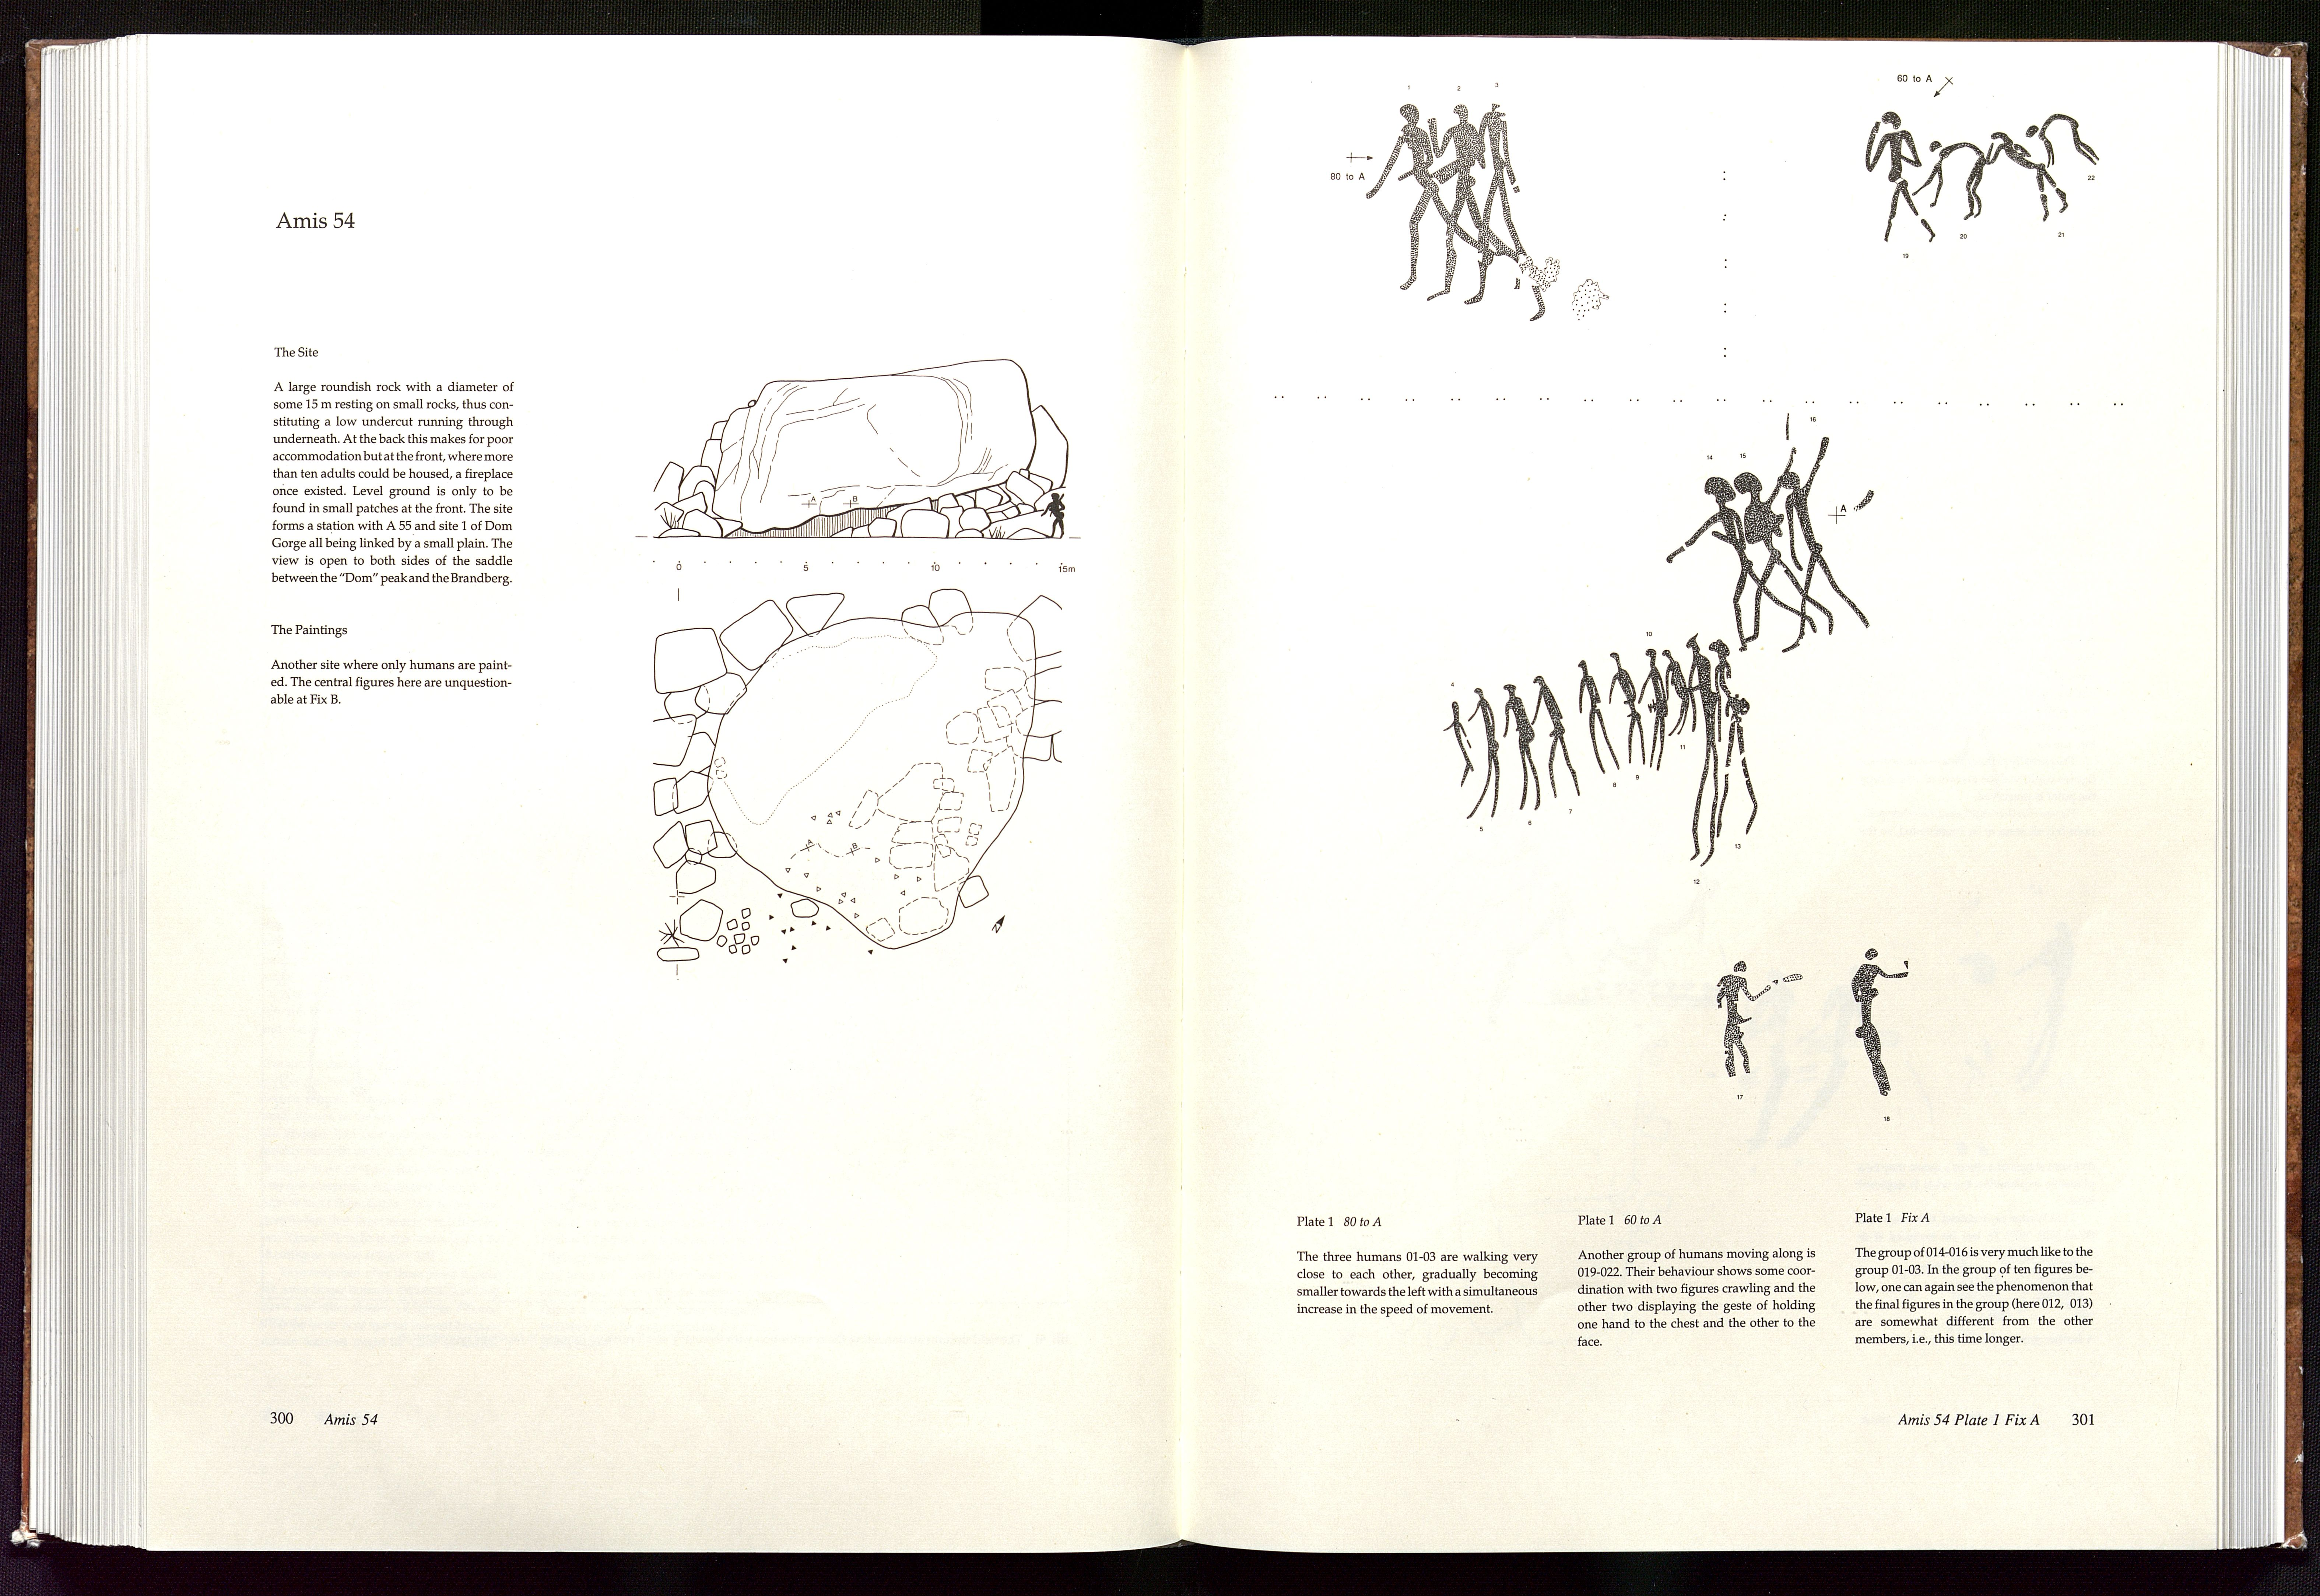human: (1663, 473, 1817, 652), (1364, 101, 1489, 292), (1777, 435, 1870, 653), (1734, 445, 1835, 644), (1426, 103, 1521, 305), (1464, 103, 1550, 323), (1713, 954, 1806, 1083), (1707, 639, 1763, 841), (1849, 943, 1912, 1102), (1863, 108, 1936, 243), (1684, 632, 1719, 868), (1983, 131, 2070, 222), (1530, 671, 1586, 801), (1911, 138, 1990, 220), (1467, 684, 1507, 823), (1501, 680, 1544, 812), (1577, 657, 1622, 775), (1607, 649, 1647, 768), (2025, 112, 2101, 170), (1638, 643, 1671, 772), (1441, 697, 1475, 788), (1661, 647, 1688, 737)
